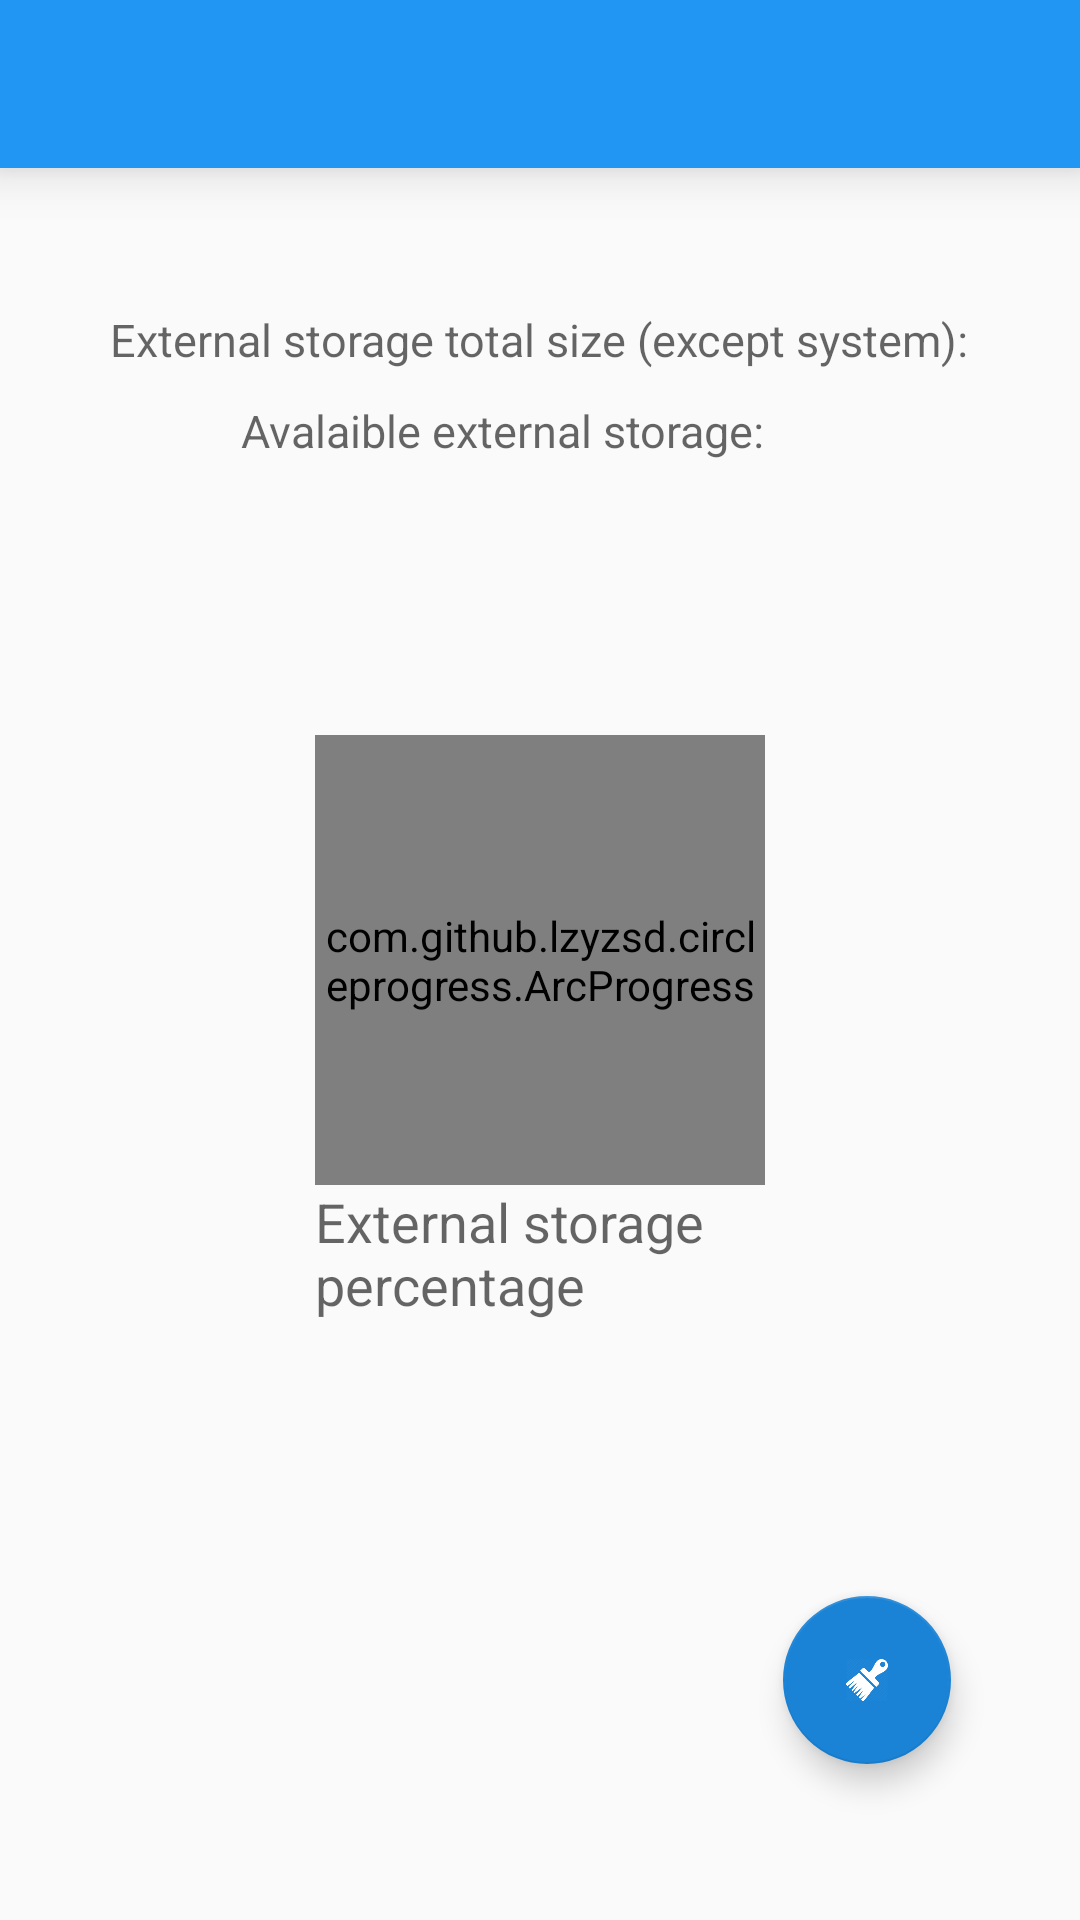

Named icons in this screenshot (1080px x 1920px) and their bounding boxes, bbox(x1, y1, x2, y2):
clear: bbox(783, 1596, 951, 1764)
